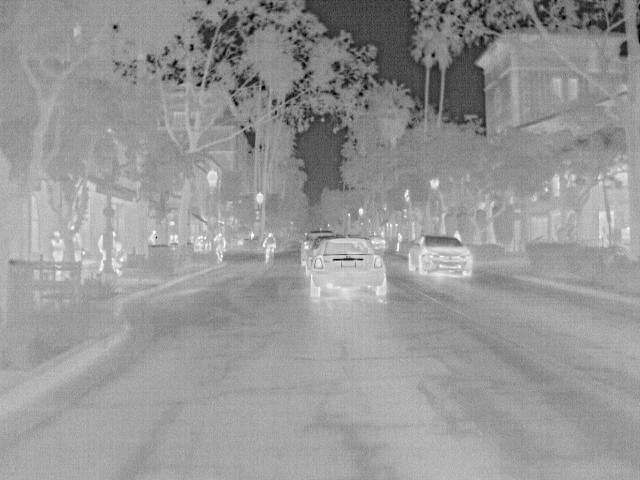car: (304, 234, 391, 299), (407, 232, 475, 280), (303, 236, 341, 276), (299, 230, 336, 262), (368, 235, 387, 253)
person: (67, 223, 84, 264), (109, 242, 127, 275), (213, 230, 229, 262), (262, 234, 277, 266), (50, 229, 64, 262), (108, 255, 125, 272), (396, 230, 405, 252), (147, 228, 159, 244)
